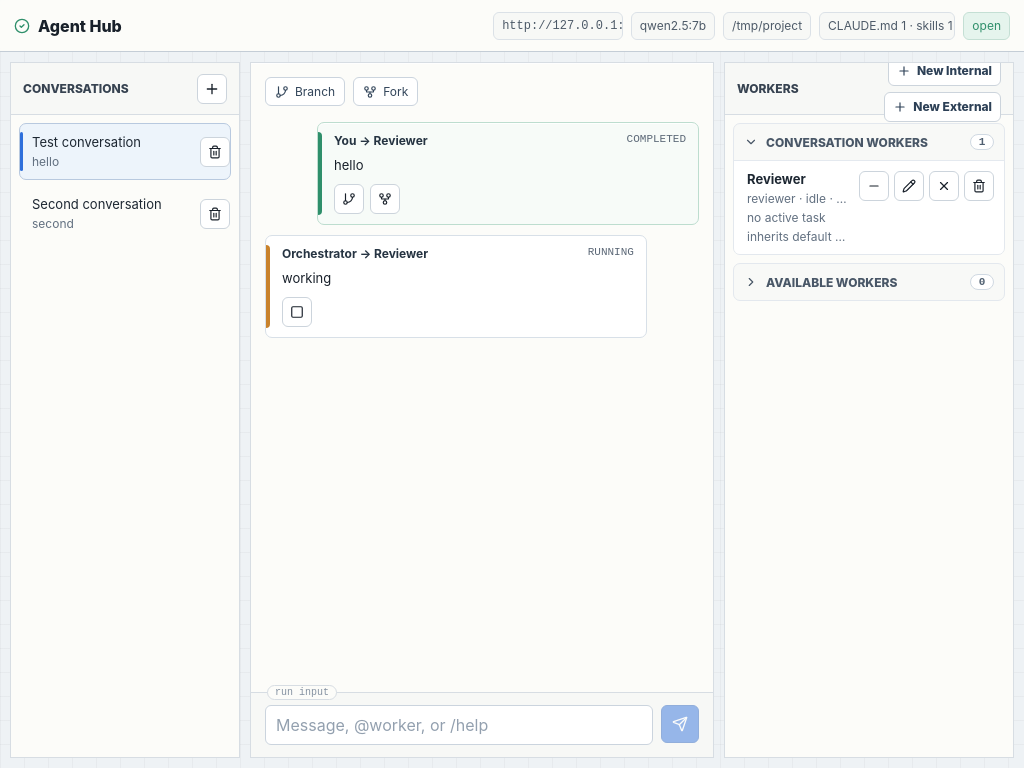
Test: Agent Hub app › edits worker JSON
The width and height of the screenshot is (1024, 768).
Expected: the text "Reviewer" is shown, [747, 171, 806, 187]
Click the button named "Edit reviewer".
click(909, 186)  # box [894, 171, 924, 201]
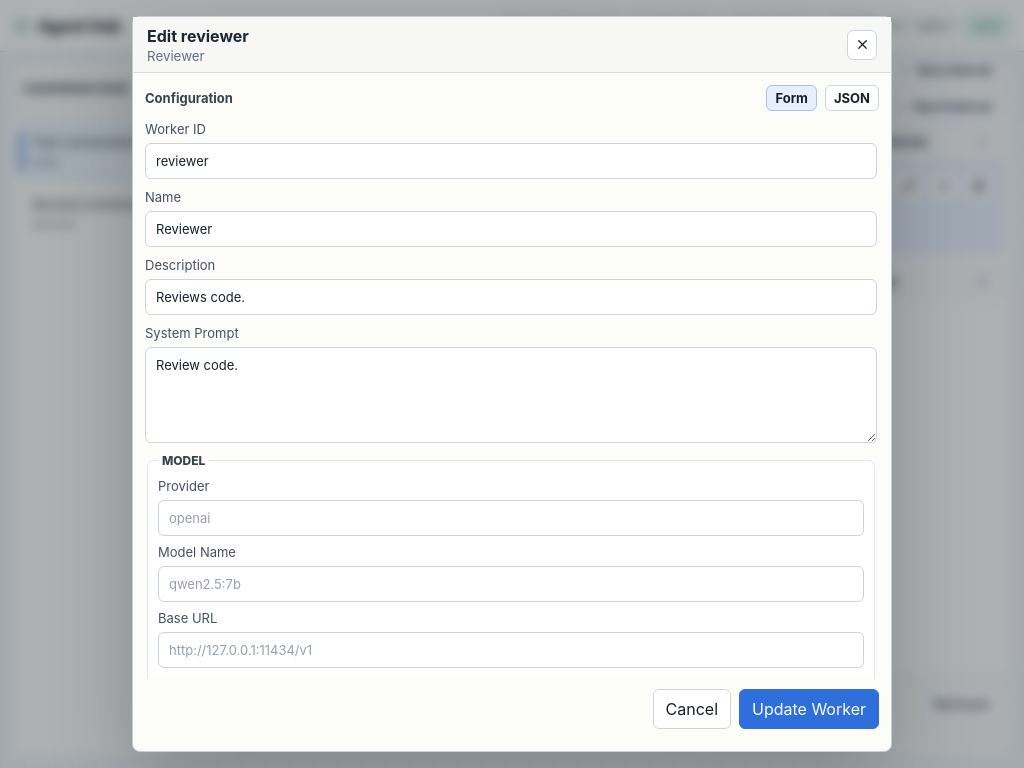
Click the button "JSON".
click(852, 98)  # box [825, 85, 879, 111]
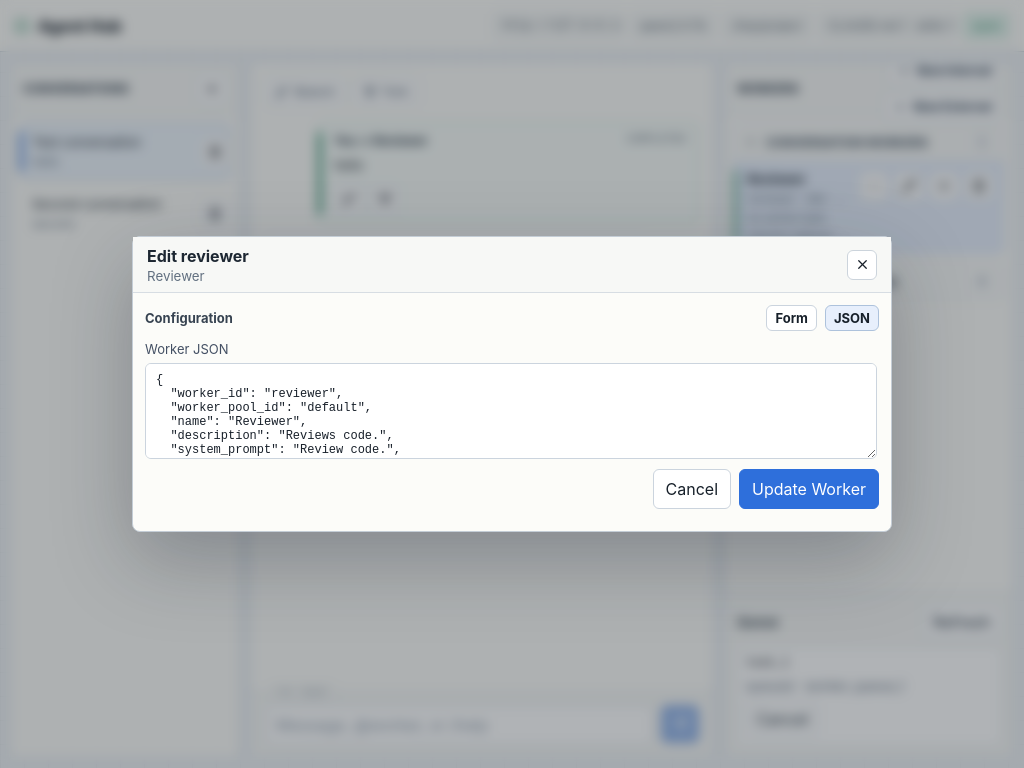
Click the button "Cancel".
click(692, 489)  # box [652, 469, 731, 509]
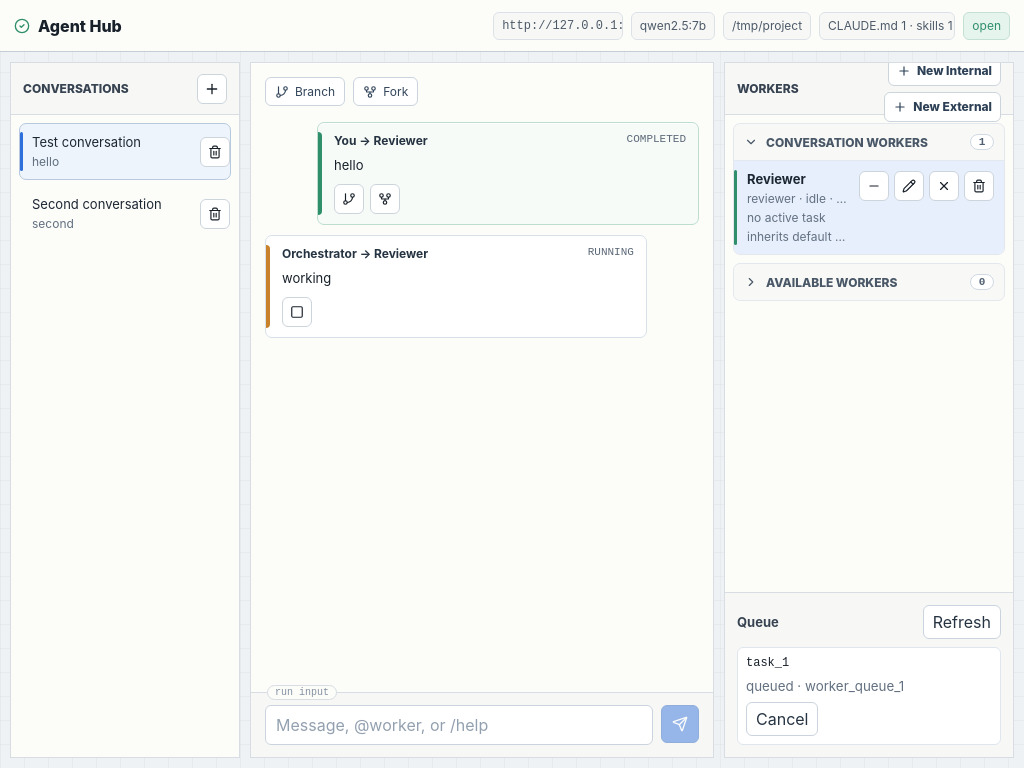
Expected: the text "Edit reviewer" is gone
